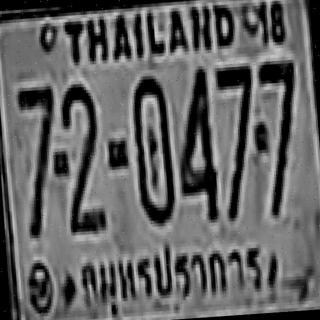N00: (130, 73, 174, 223)
N02: (54, 81, 104, 228)
N04: (172, 64, 218, 220)
N07: (256, 56, 302, 212), (15, 83, 61, 235), (215, 64, 260, 217), (214, 62, 256, 168), (256, 56, 298, 159), (15, 83, 57, 185), (214, 63, 256, 156)
P57: (76, 234, 269, 320)
